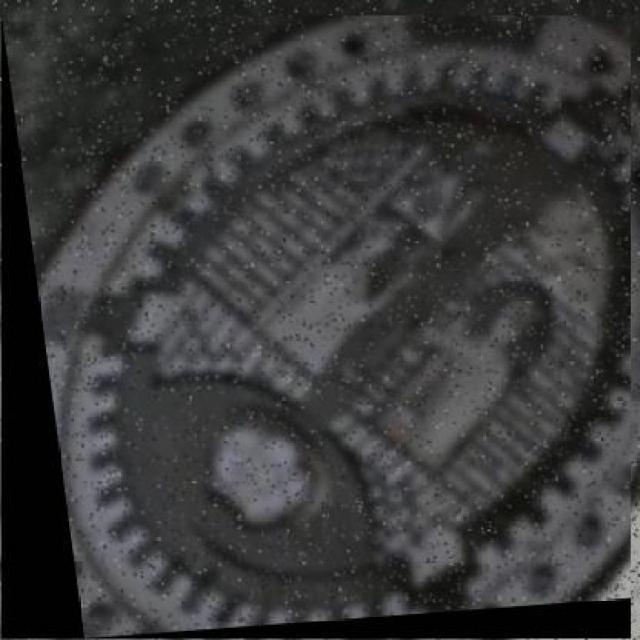Manhole: (2, 16, 630, 638)
